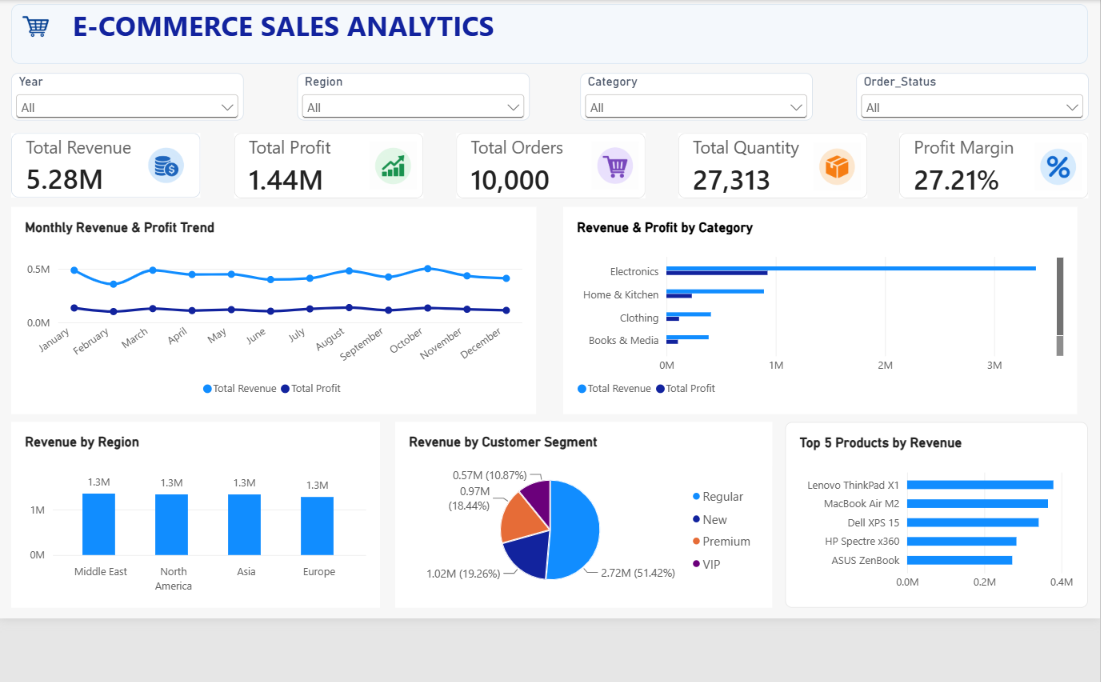

Layout of this report page (visuals, bound fields, positions):
{"tool":"powerbi","page":{"name":"Page 1","canvas":[1280,720],"ordinal":0},"visuals":[{"type":"textbox","box":[14,4.7,1252.3,69.8],"z":0},{"type":"slicer","fields":{"Values":["Dim_Date.Year"]},"box":[14,84.9,270,55],"z":1000},{"type":"slicer","fields":{"Values":["Dim_Region.Region"]},"box":[346.1,84.9,270,55],"z":2000},{"type":"slicer","fields":{"Values":["Dim_Category.Category"]},"box":[676,84.9,270,55],"z":3000},{"type":"slicer","fields":{"Values":["ecommerce_sales.Order_Status"]},"box":[996.5,84.9,270,55],"z":4000},{"type":"cardVisual","fields":{"Data":["ecommerce_sales.Total Revenue"]},"box":[14,154.7,220,75.6],"z":5000},{"type":"cardVisual","fields":{"Data":["ecommerce_sales.Total Orders"]},"box":[531.4,154.7,220,76],"z":6000},{"type":"cardVisual","fields":{"Data":["ecommerce_sales.Total Profit"]},"box":[273.3,154.7,220,76],"z":7000},{"type":"cardVisual","fields":{"Data":["ecommerce_sales.Total Quantity"]},"box":[789.5,154.7,220,76],"z":8000},{"type":"cardVisual","fields":{"Data":["ecommerce_sales.Profit Margin"]},"box":[1046.5,154.7,220,76],"z":9000},{"type":"lineChart","title":"Monthly Revenue & Profit Trend","fields":{"Category":["Dim_Date.Month Name"],"Y":["ecommerce_sales.Total Revenue","ecommerce_sales.Total Profit"]},"box":[14,240.7,610,240.7],"z":10000},{"type":"clusteredBarChart","title":"Revenue & Profit by Category","fields":{"Category":["Dim_Category.Category"],"Y":["ecommerce_sales.Total Revenue","ecommerce_sales.Total Profit"]},"box":[655.8,240.7,597.7,240.7],"z":11000},{"type":"clusteredColumnChart","title":"Revenue by Region","fields":{"Category":["Dim_Region.Region"],"Y":["ecommerce_sales.Total Revenue"]},"box":[14,490.7,429.1,216.3],"z":12000},{"type":"pieChart","title":"Revenue by Customer Segment","fields":{"Category":["ecommerce_sales.Customer_Segment"],"Y":["ecommerce_sales.Total Revenue"]},"box":[460.5,490.7,438.4,216.3],"z":13000},{"type":"image","box":[14,0,60,60],"z":14000},{"type":"image","box":[159.3,165.1,69.8,54.7],"z":15000},{"type":"image","box":[423.3,165.1,70,55],"z":16000},{"type":"image","box":[1196.5,166.3,70,55],"z":17000},{"type":"image","box":[939.5,166.3,70,55],"z":18000},{"type":"image","box":[681.4,165.1,70,55],"z":19000},{"type":"clusteredBarChart","title":"Top 5 Products by Revenue","fields":{"Category":["ecommerce_sales.Product_Name"],"Y":["ecommerce_sales.Total Revenue"]},"box":[914,490.7,352.3,216.3],"z":20000}]}

Visuals, with their boxes on the page's 1280x720 design canvas (x1, y1, x2, y2). These are canvas units, not pixel positions in the 1101x682 screenshot, which may show the page scaled, cropped or inside an application window:
textbox: (14,5,1266,74)
slicer - Dim_Date.Year: (14,85,284,140)
slicer - Dim_Region.Region: (346,85,616,140)
slicer - Dim_Category.Category: (676,85,946,140)
slicer - ecommerce_sales.Order_Status: (996,85,1266,140)
cardVisual - ecommerce_sales.Total Revenue: (14,155,234,230)
cardVisual - ecommerce_sales.Total Orders: (531,155,751,231)
cardVisual - ecommerce_sales.Total Profit: (273,155,493,231)
cardVisual - ecommerce_sales.Total Quantity: (790,155,1010,231)
cardVisual - ecommerce_sales.Profit Margin: (1046,155,1266,231)
"Monthly Revenue & Profit Trend" lineChart: (14,241,624,481)
"Revenue & Profit by Category" clusteredBarChart: (656,241,1254,481)
"Revenue by Region" clusteredColumnChart: (14,491,443,707)
"Revenue by Customer Segment" pieChart: (460,491,899,707)
image: (14,0,74,60)
image: (159,165,229,220)
image: (423,165,493,220)
image: (1196,166,1266,221)
image: (940,166,1010,221)
image: (681,165,751,220)
"Top 5 Products by Revenue" clusteredBarChart: (914,491,1266,707)
